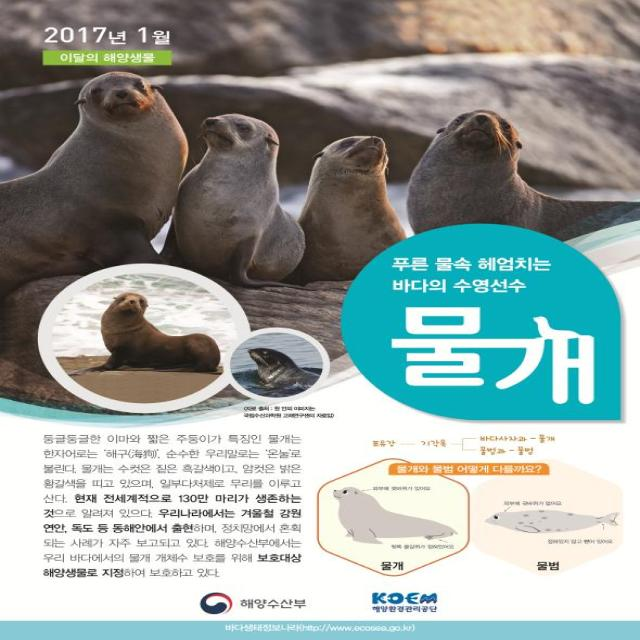WaterDog: (6, 66, 192, 291), (412, 105, 640, 237), (171, 109, 308, 301), (297, 125, 407, 298)
